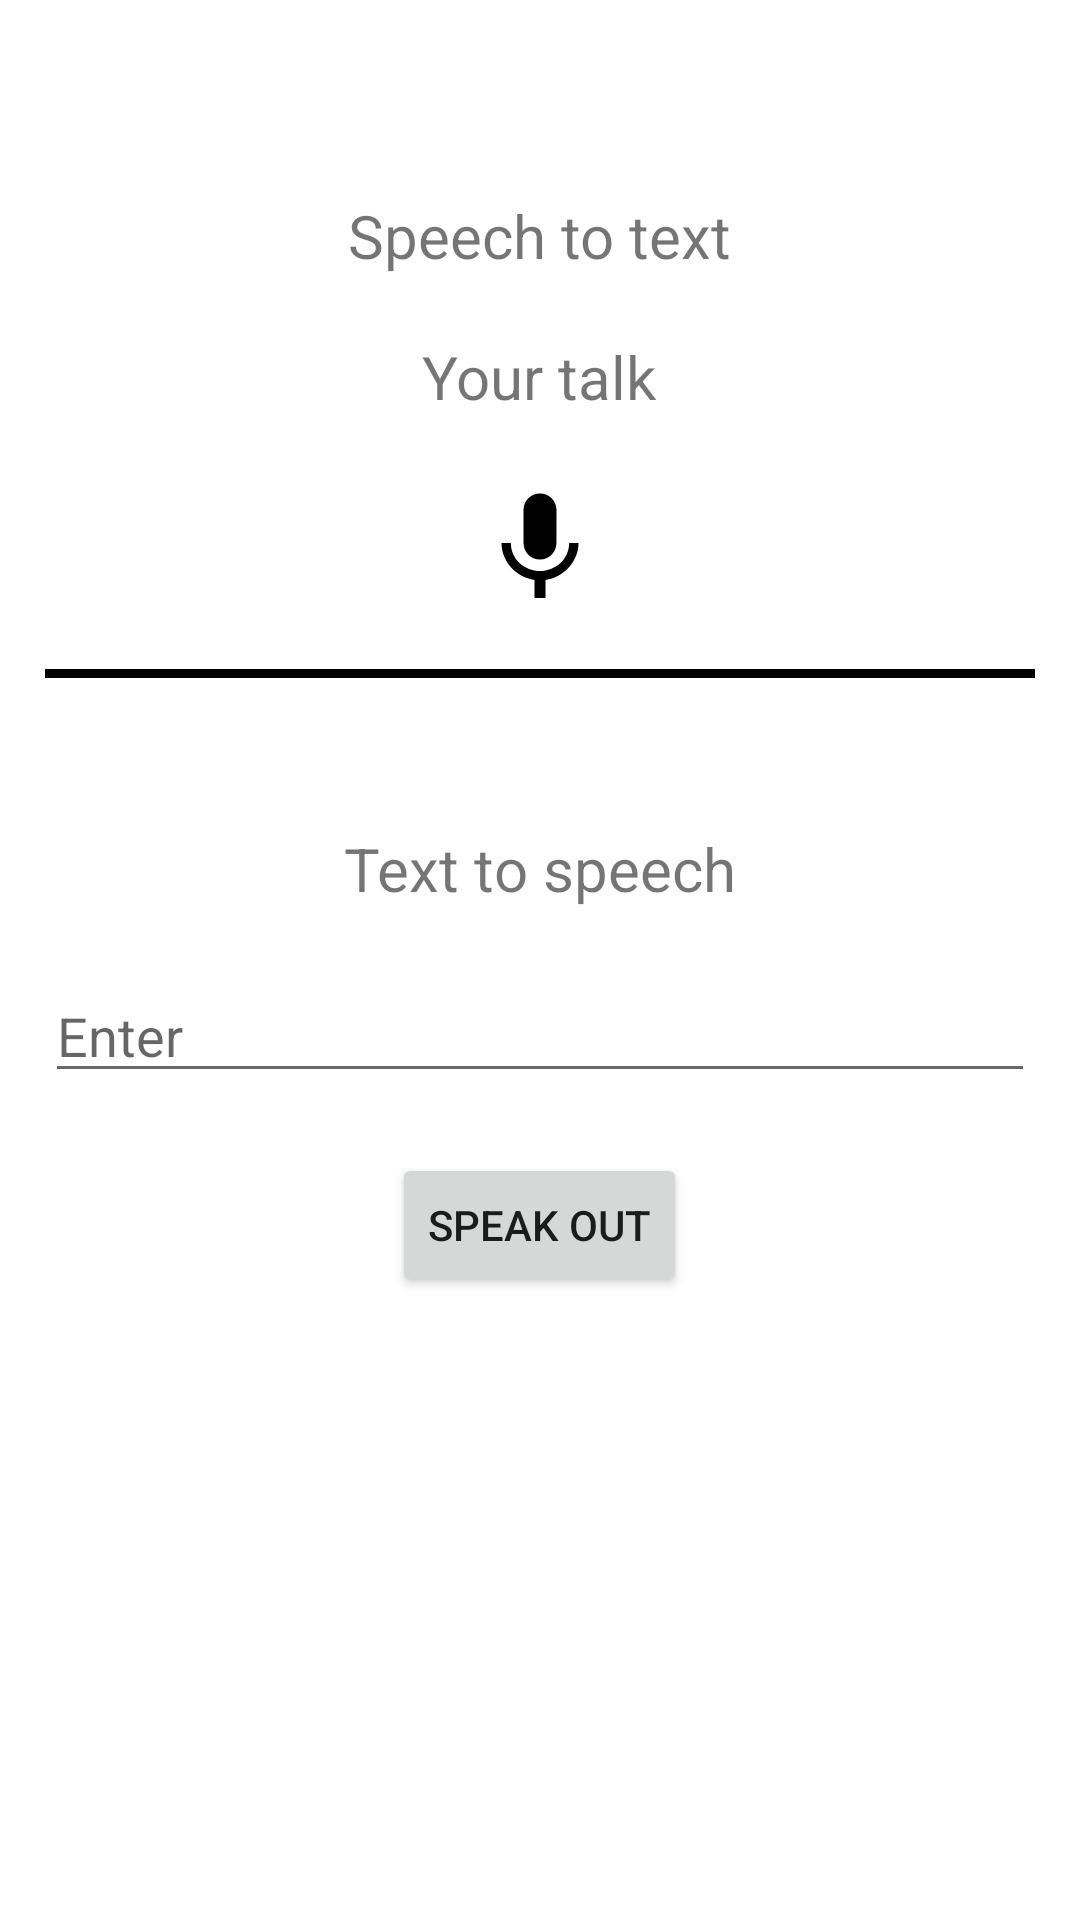

Icons on this 1080w x 1920h Android screen, each with its box as [x1=x1, y1=y1, x2=x2, y2=y2]:
keyboard voice: [x1=501, y1=493, x2=579, y2=598]
